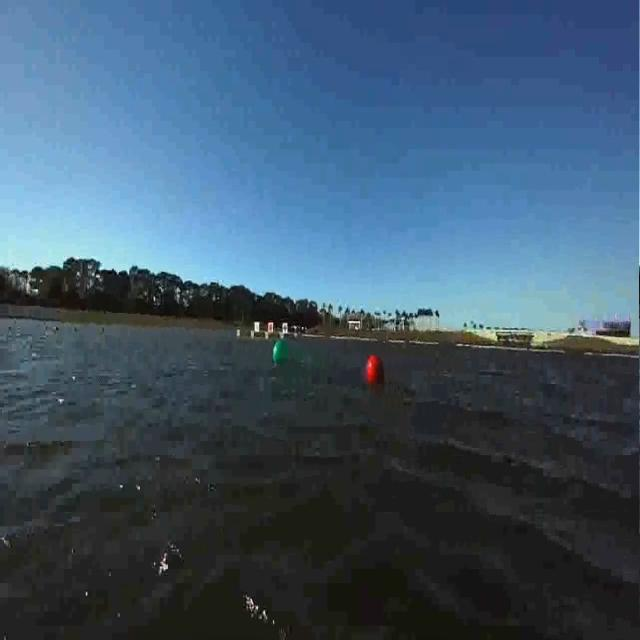green-buoy: (270, 337, 295, 373)
red-buoy: (362, 349, 384, 400)
